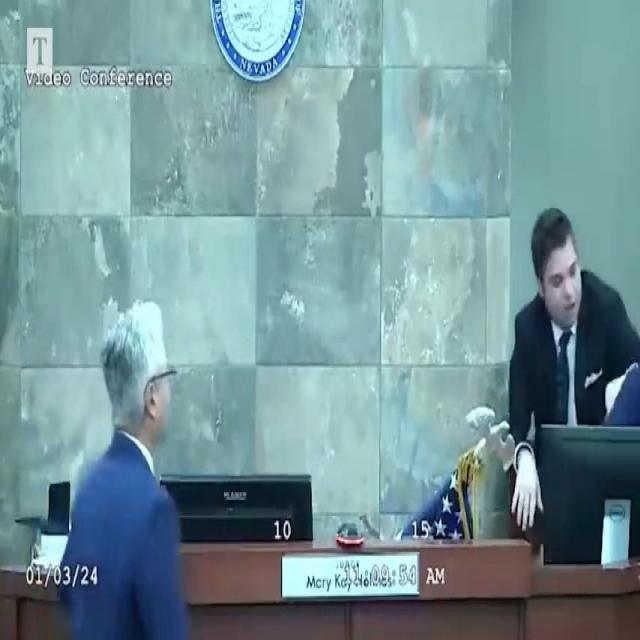fight: (505, 200, 640, 534)
non-fight: (61, 301, 192, 640)
